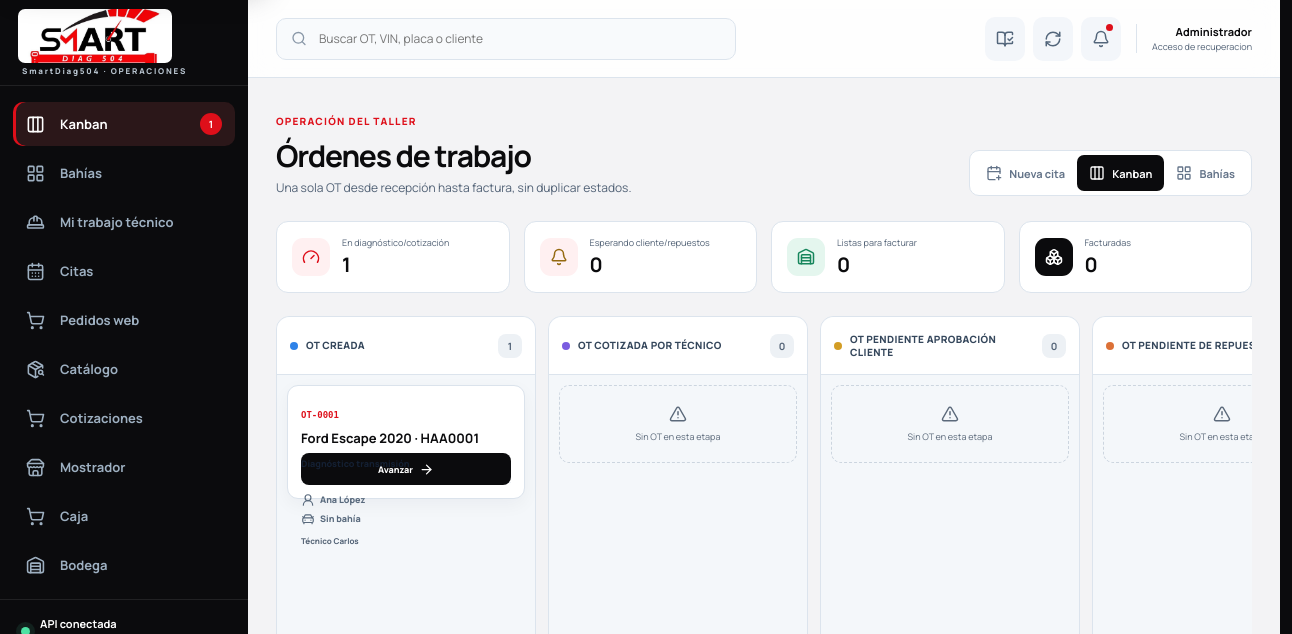
Scenario: SmartDiag504 operations › lists web bookings for reception
Click the button "Citas" at (124, 271), box left=13, top=249, right=235, bottom=293
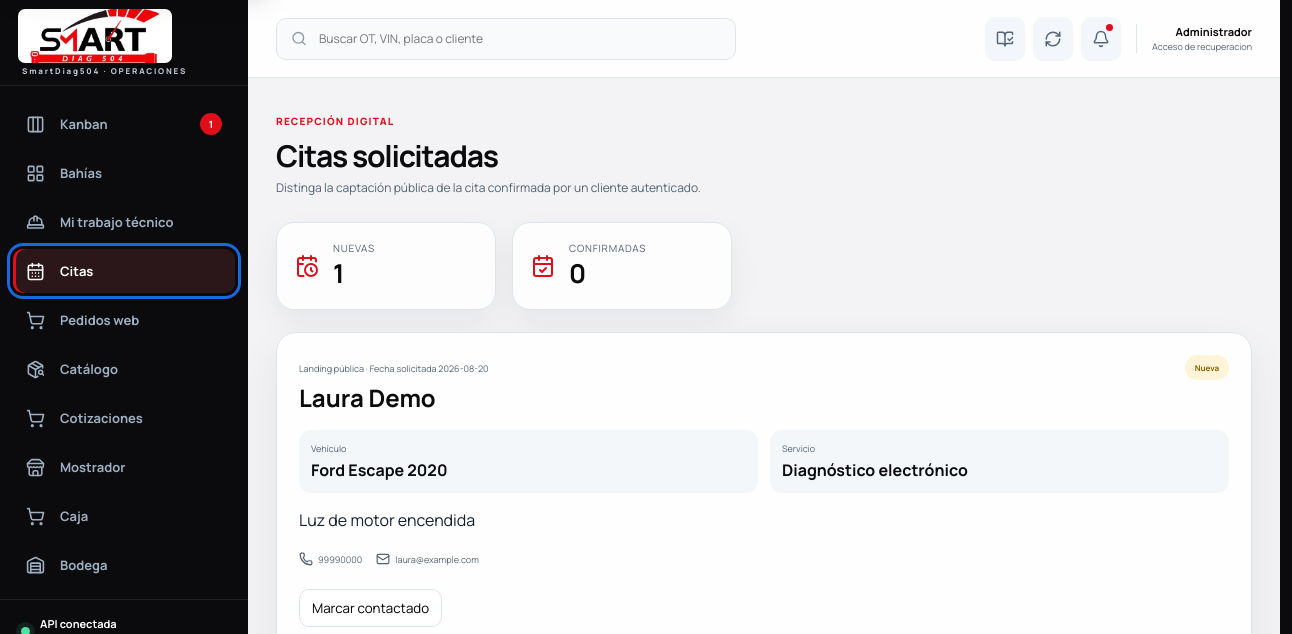
Expected: the text "Ford Escape 2020" is shown, left=311, top=459, right=447, bottom=481
Expected: the heading "Laura Demo" is shown, left=299, top=381, right=436, bottom=414
